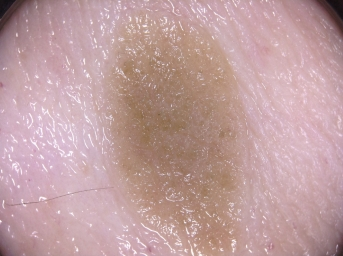seborrheic keratosis: (99, 6, 272, 256)
